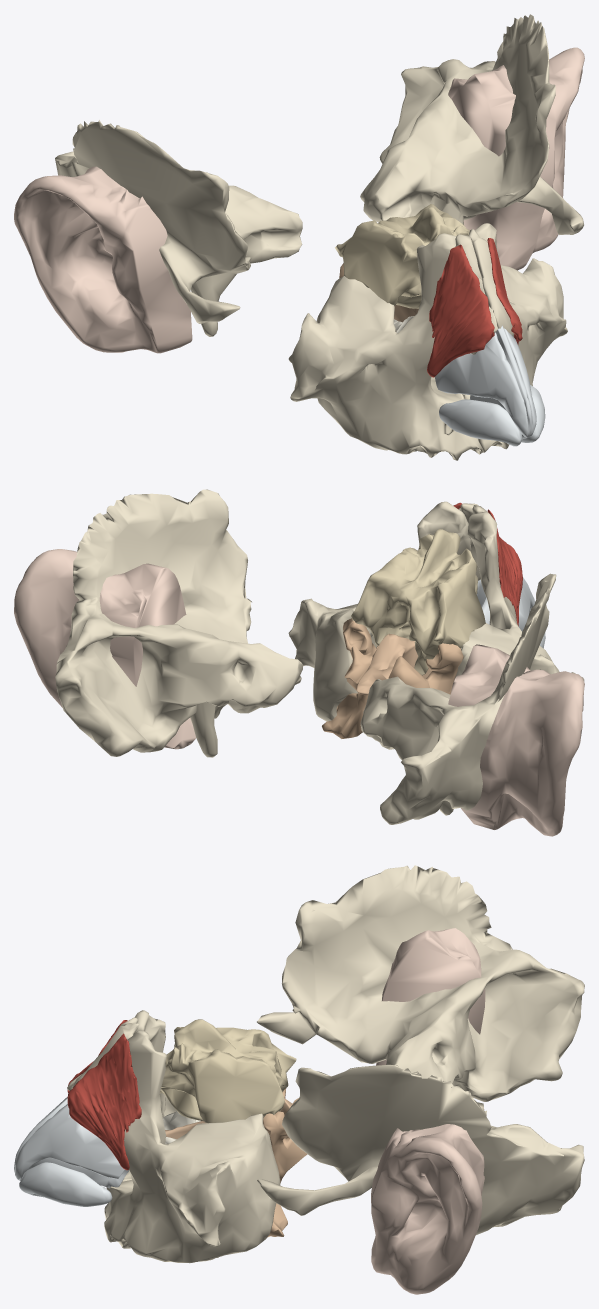
Rendered from bodyparts3d-nose-ear.glb.
3 views of the same model, one above another, from view 1: azimuth 30°, elevation 25°; view 2: azimuth 150°, elevation 25°; view 3: azimuth 270°, elevation 25° (orthographic). The views are drawn at different scales.
Visible parts, largest first — view 1: ear, temporal_l, maxilla_r, temporal_r, nasal_cartilages, ethmoid, nasalis_r, maxilla_l, nasal_bone_l, nasalis_l, nasal_bone_r; view 2: temporal_l, ear, temporal_r, ethmoid, maxilla_l, maxilla_r, palatine_l, palatine_r, vomer, nasalis_r, nasal_cartilages; view 3: temporal_r, temporal_l, maxilla_l, ear, ethmoid, nasal_cartilages, nasalis_l, palatine_l, maxilla_r.
Part boxes in pixels (x1,y1,x2,y2): ear: (14,47,584,353); temporal_l: (360,14,583,234); maxilla_r: (288,233,482,460); temporal_r: (55,120,302,336); nasal_cartilages: (435,325,545,446); ethmoid: (335,204,469,308); nasalis_r: (427,244,494,377); maxilla_l: (462,223,567,452); nasal_bone_l: (468,229,513,335); nasalis_l: (487,238,522,344); nasal_bone_r: (455,234,498,354); temporal_l: (55,489,302,757); ear: (14,549,584,836); temporal_r: (360,573,584,824); ethmoid: (351,529,485,675); maxilla_l: (288,501,471,721); maxilla_r: (454,511,559,679); palatine_l: (322,618,378,738); palatine_r: (388,643,463,694); vomer: (356,633,431,695); nasalis_r: (487,509,522,626); nasal_cartilages: (476,577,545,648); temporal_r: (257,865,584,1101); temporal_l: (257,1064,584,1234); maxilla_l: (104,1030,280,1263); ear: (371,928,485,1294); ethmoid: (160,1019,296,1123); nasal_cartilages: (14,1096,128,1206); nasalis_l: (67,1033,141,1170); palatine_l: (263,1111,307,1237); maxilla_r: (104,1010,176,1219).
Bounding box in the file's own units: 0.1805 × 0.0828 × 0.1622.
